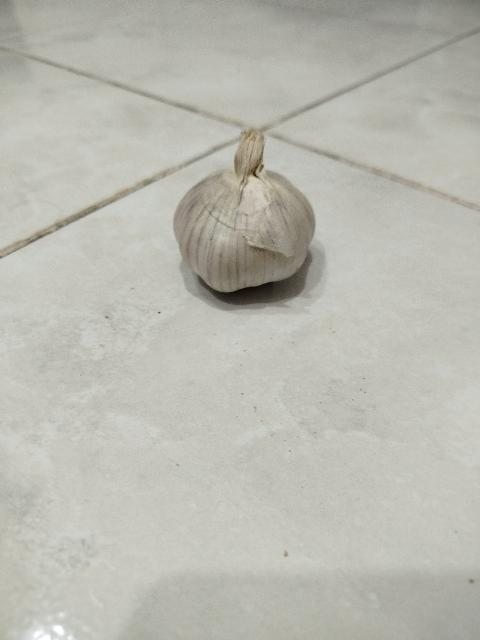garlic: (172, 127, 316, 293)
